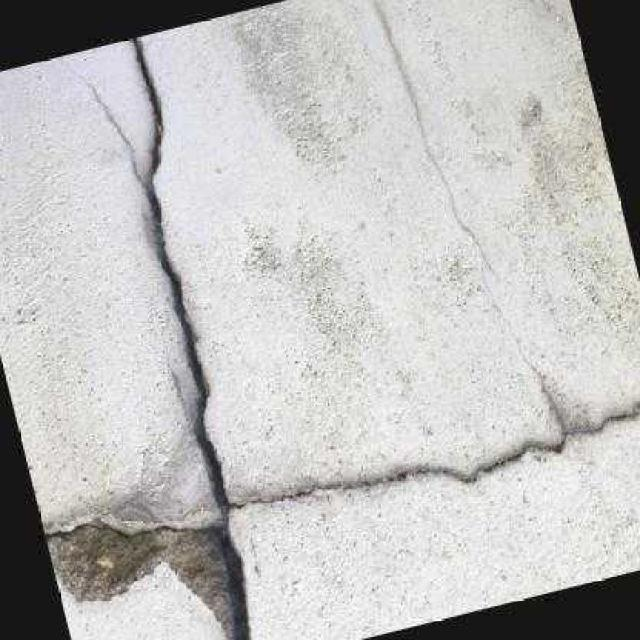D00: (42, 36, 640, 640), (370, 0, 564, 430)
